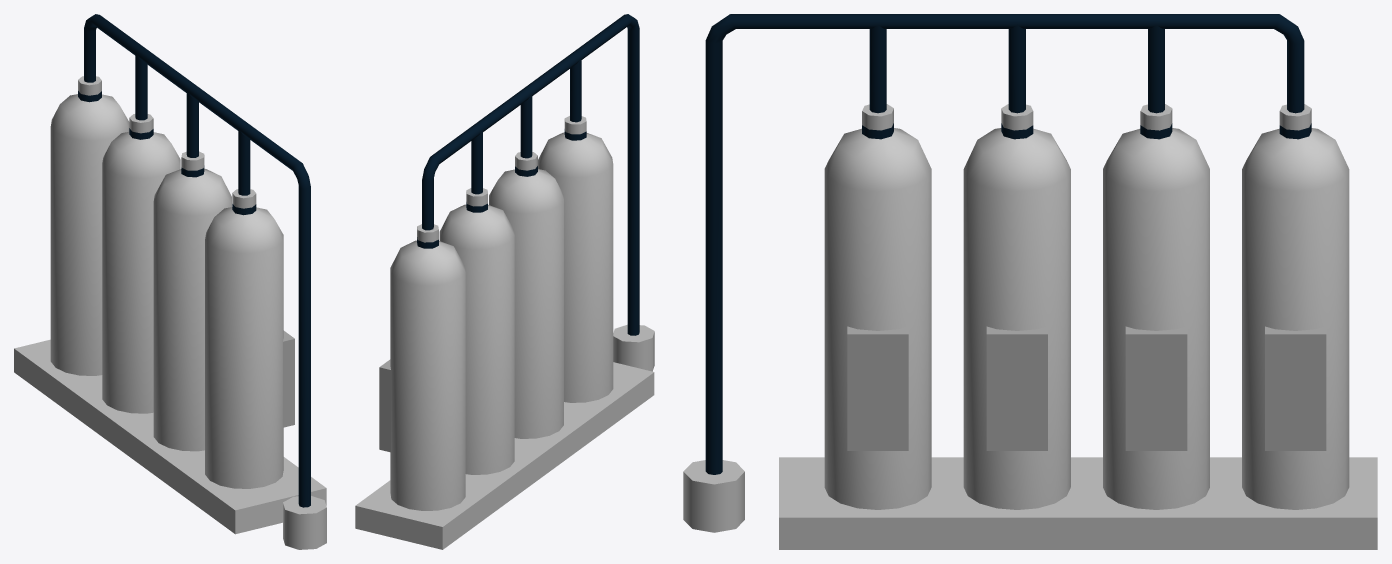
3 views of the same model, side by side, from view 1: azimuth 30°, elevation 25°; view 2: azimuth 150°, elevation 25°; view 3: azimuth 270°, elevation 25° (orthographic). The views are drawn at different scales.
Parts seen in each view (by area): view 1: o2cylinder; view 2: o2cylinder; view 3: o2cylinder.
Part boxes in pixels (x1,y1,x2,y2): o2cylinder: [14, 14, 326, 549]; o2cylinder: [355, 14, 654, 549]; o2cylinder: [683, 14, 1377, 549].
Bounding box in the file's own units: 0.8 × 3.12 × 3.89.
